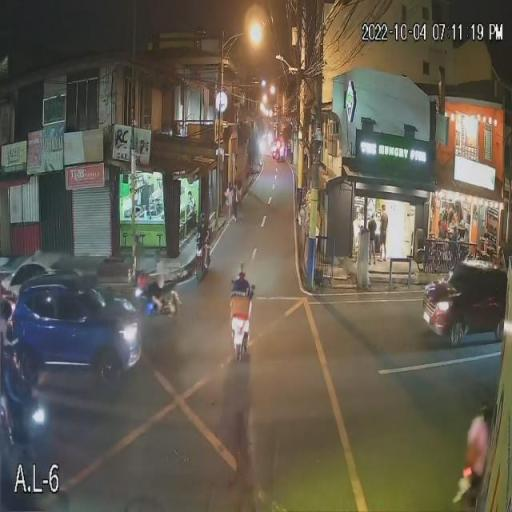helmet: (238, 269, 248, 283)
motorcycle: (225, 284, 267, 361)
rider: (229, 277, 255, 304)
